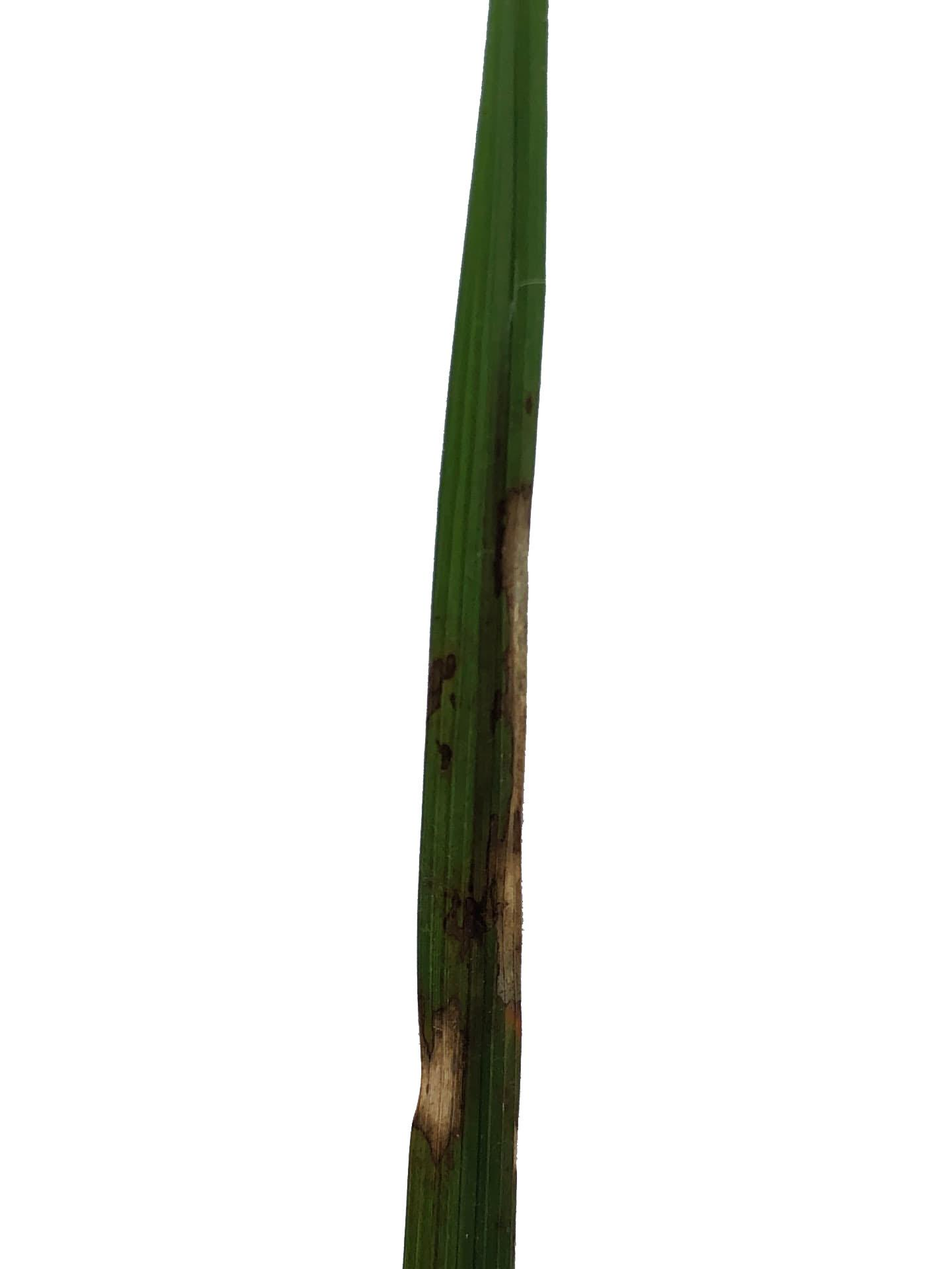Blight: (479, 459, 526, 1058), (410, 1005, 486, 1157)
